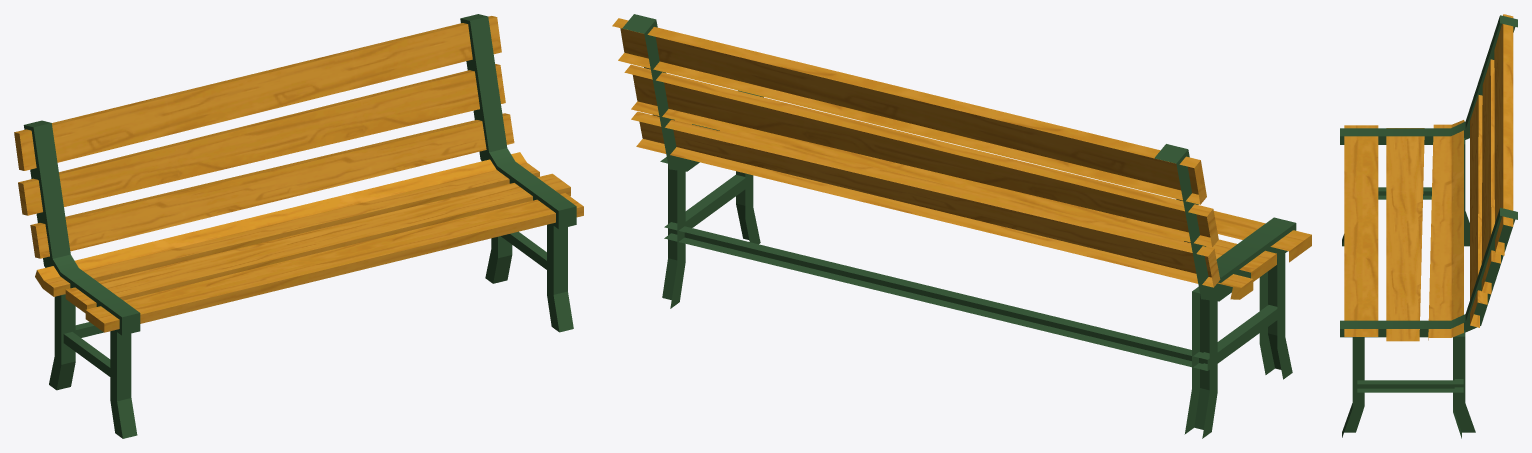
The model's file is interior_H_003.fbx.
3 renders of one model, left to right at view 1: azimuth 30°, elevation 25°; view 2: azimuth 150°, elevation 25°; view 3: azimuth 270°, elevation 25°, orthographic. The views are drawn at different scales.
Visible parts, largest first — view 1: interior_H_003; view 2: interior_H_003; view 3: interior_H_003.
Part boxes in pixels (x1,y1,x2,y2): interior_H_003: (14, 14, 583, 438); interior_H_003: (612, 14, 1311, 438); interior_H_003: (1340, 14, 1517, 438).
Size of the model in its own units: 169 by 81.6 by 58.64.
2 materials, 1 textured.
